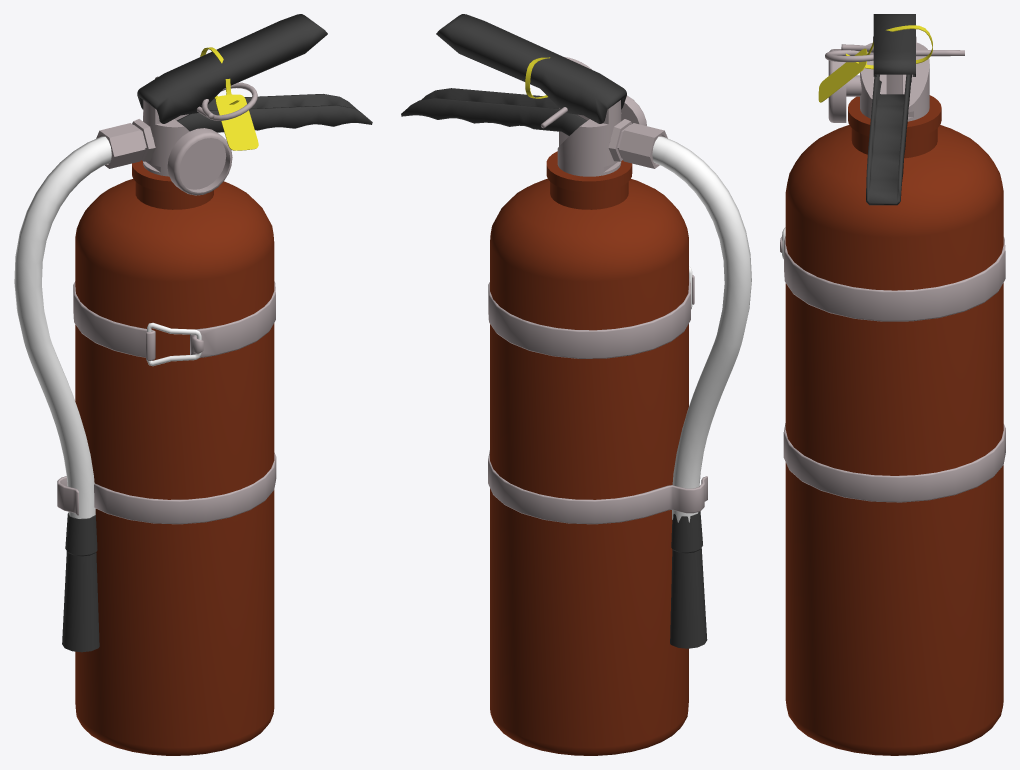
Rendered from fire_extinguisher_powder_light.glb.
3 views of the same model, side by side, from view 1: azimuth 30°, elevation 25°; view 2: azimuth 150°, elevation 25°; view 3: azimuth 270°, elevation 25° (orthographic). The views are drawn at different scales.
Parts seen in each view (by area): view 1: cylinder_fire-extinguisher, hose_fire-extinguisher, handle_top_fire-extinguisher, Cylinder.004, Cylinder.005, nozzle_fire-extinguisher, handle_bottom_fire-extinguisher, Cylinder.006, Cylinder.002, stamp_fire-extinguisher, Cylinder.001, safety_pin_fire-extinguisher (+1 smaller); view 2: cylinder_fire-extinguisher, hose_fire-extinguisher, handle_top_fire-extinguisher, Cylinder.005, Cylinder.004, handle_bottom_fire-extinguisher, nozzle_fire-extinguisher, Cylinder.001, Cylinder.002; view 3: cylinder_fire-extinguisher, Cylinder.005, Cylinder.004, handle_bottom_fire-extinguisher, handle_top_fire-extinguisher, Cylinder.001, stamp_fire-extinguisher, Cylinder.006, safety_pin_fire-extinguisher.
Boxes of the visible parts, x1,y1,x2,y2 form: cylinder_fire-extinguisher: [75, 160, 274, 755]; hose_fire-extinguisher: [14, 136, 111, 518]; handle_top_fire-extinguisher: [137, 14, 327, 123]; Cylinder.004: [57, 452, 276, 524]; Cylinder.005: [73, 281, 275, 360]; nozzle_fire-extinguisher: [62, 513, 99, 652]; handle_bottom_fire-extinguisher: [177, 94, 372, 132]; Cylinder.006: [167, 128, 232, 195]; Cylinder.002: [96, 119, 155, 168]; stamp_fire-extinguisher: [200, 47, 258, 150]; Cylinder.001: [143, 100, 189, 176]; safety_pin_fire-extinguisher: [155, 76, 257, 120]; cylinder_fire-extinguisher: [490, 151, 688, 755]; hose_fire-extinguisher: [652, 136, 751, 522]; handle_top_fire-extinguisher: [436, 14, 626, 123]; Cylinder.005: [488, 275, 694, 358]; Cylinder.004: [488, 450, 707, 524]; handle_bottom_fire-extinguisher: [401, 88, 586, 135]; nozzle_fire-extinguisher: [670, 511, 707, 648]; Cylinder.001: [557, 100, 621, 176]; Cylinder.002: [608, 119, 667, 168]; cylinder_fire-extinguisher: [785, 95, 1003, 755]; Cylinder.005: [780, 236, 1005, 321]; Cylinder.004: [783, 423, 1005, 502]; handle_bottom_fire-extinguisher: [866, 74, 911, 205]; handle_top_fire-extinguisher: [873, 14, 915, 76]; Cylinder.001: [860, 42, 929, 121]; stamp_fire-extinguisher: [818, 25, 932, 102]; Cylinder.006: [828, 49, 861, 122]; safety_pin_fire-extinguisher: [825, 44, 964, 62].
Bounding box in the file's own units: 1.53 × 2.78 × 0.7866.
